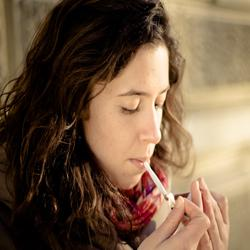smoking: (128, 156, 172, 204)
